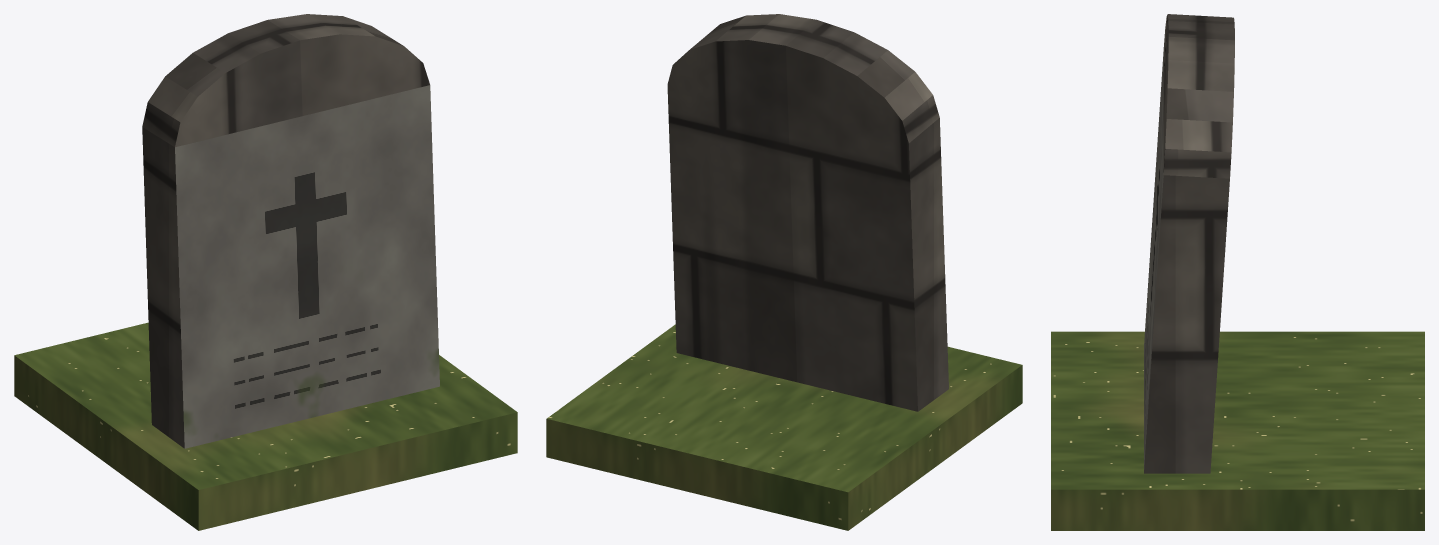
File: gravestone.gltf
The picture shows the model from 3 angles, left to right: view 1: azimuth 30°, elevation 25°; view 2: azimuth 150°, elevation 25°; view 3: azimuth 270°, elevation 25°; orthographic projection. The views are drawn at different scales.
Visible parts, largest first — view 1: gravestone_mesh; view 2: gravestone_mesh; view 3: gravestone_mesh.
Part boxes in pixels (x1,y1,x2,y2): gravestone_mesh: [14, 14, 517, 530]; gravestone_mesh: [546, 14, 1022, 530]; gravestone_mesh: [1051, 14, 1424, 530].
Bounding box in the file's own units: 0.9 × 1.1 × 0.9.
Materials: 3 (3 with a texture image).
